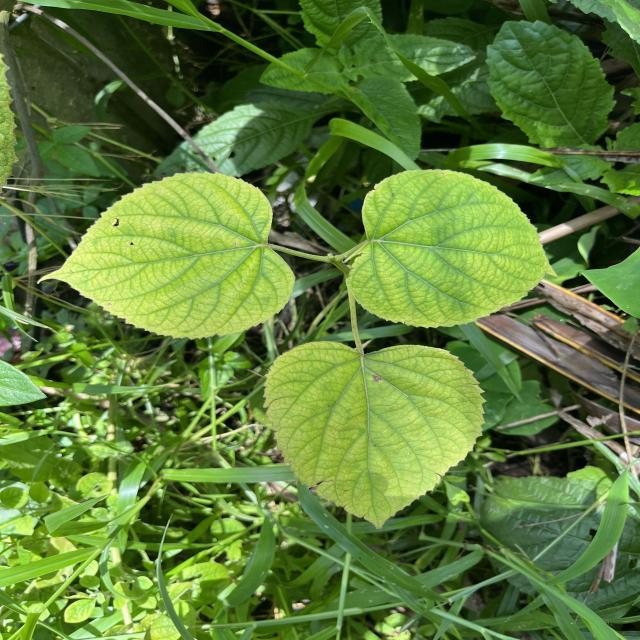Clerodendrum infortunatum: (36, 170, 296, 342), (262, 338, 488, 532), (345, 168, 560, 330)
